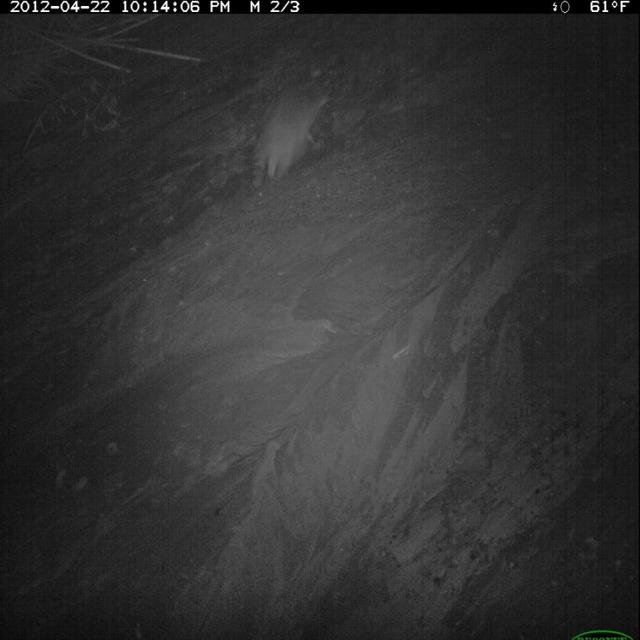raccoon: (248, 72, 339, 200)
